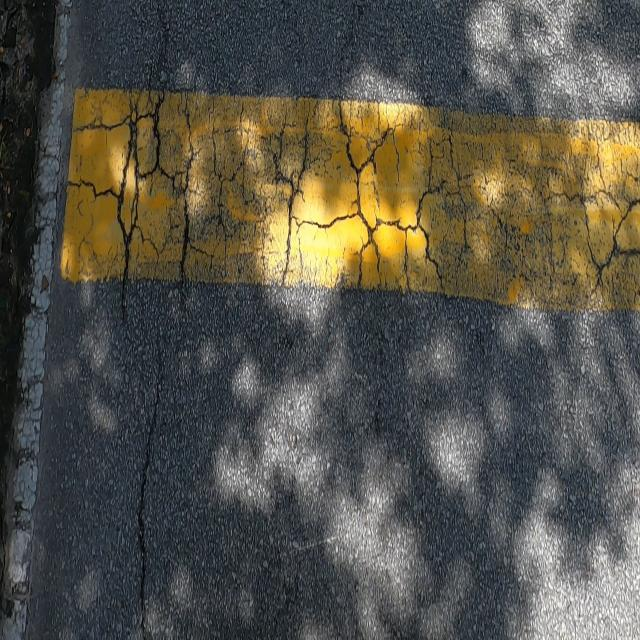Retak-Buaya: (78, 94, 475, 295), (552, 147, 640, 287)
Retak-Memanjang: (133, 317, 167, 640)
